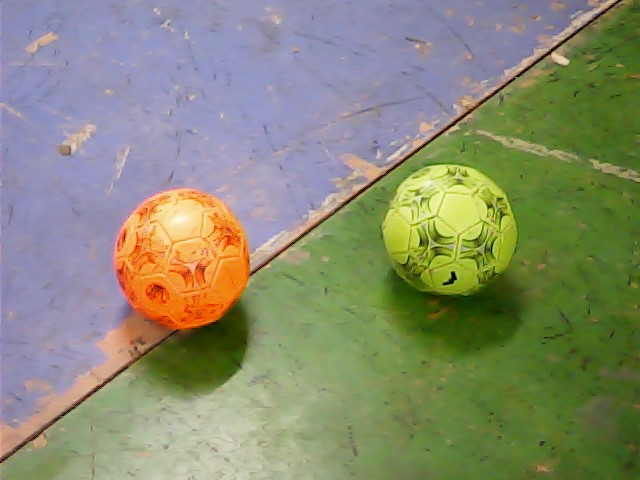Green_ball: (381, 162, 522, 297)
Orange_ball: (109, 186, 254, 330)
